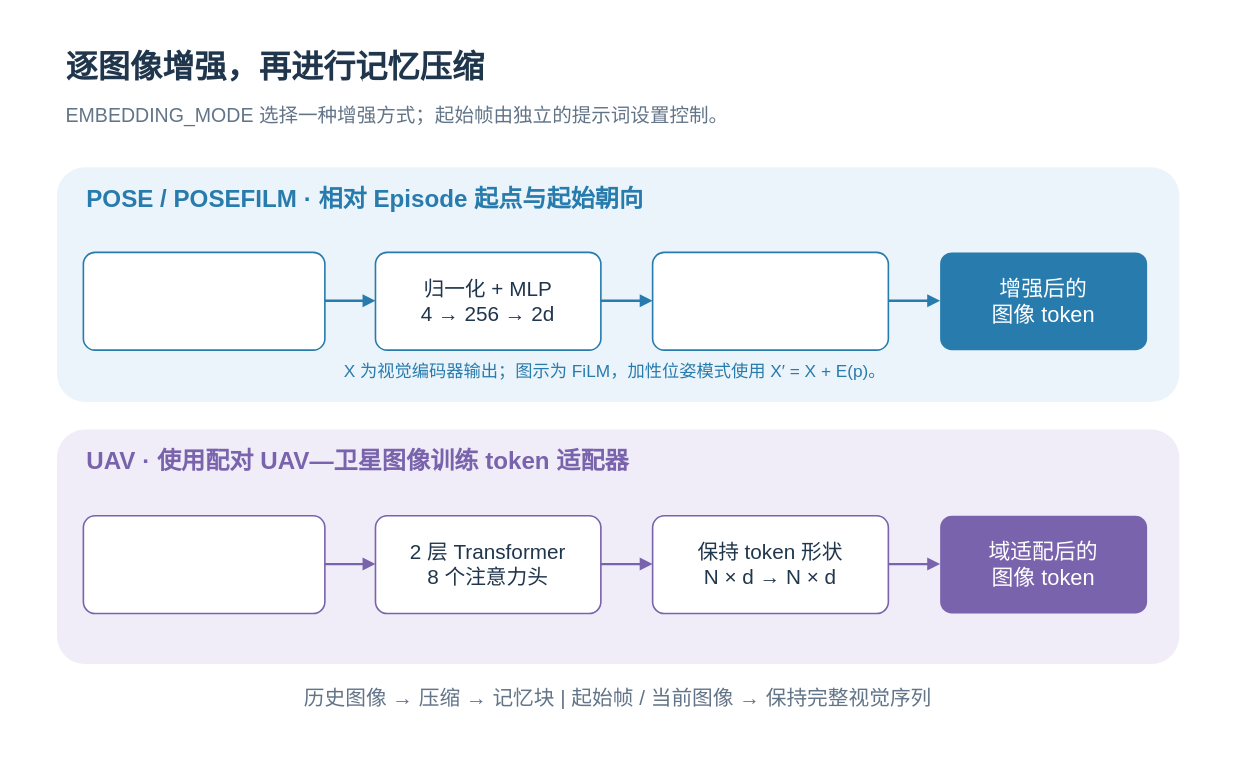
Some shapes in this 1235 by 758 pixel diagram are drawn without their labels. The centre of each missing label's shape, as x and y in pixels:
FiLM X′ = X ⊙ (1 + γ) + β: point 770,300
动作序列 → 相对位姿 [f, r, θ]: point 203,300
视觉编码器输出 图像 token: point 203,564
